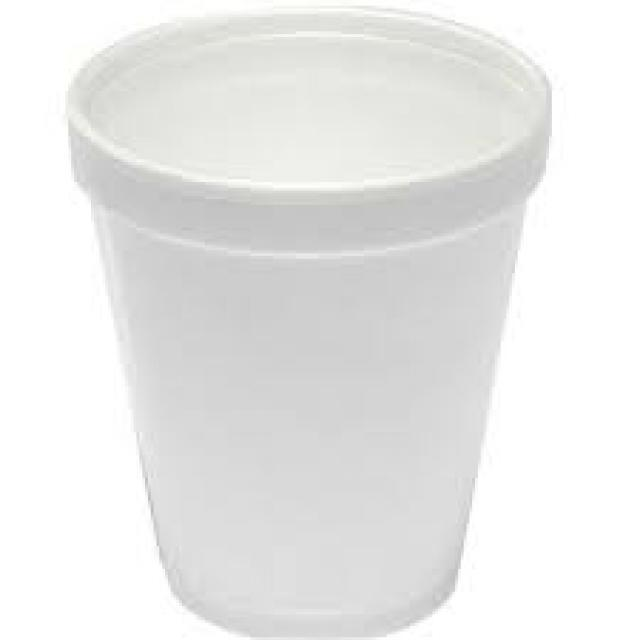trash: (60, 7, 546, 638)
